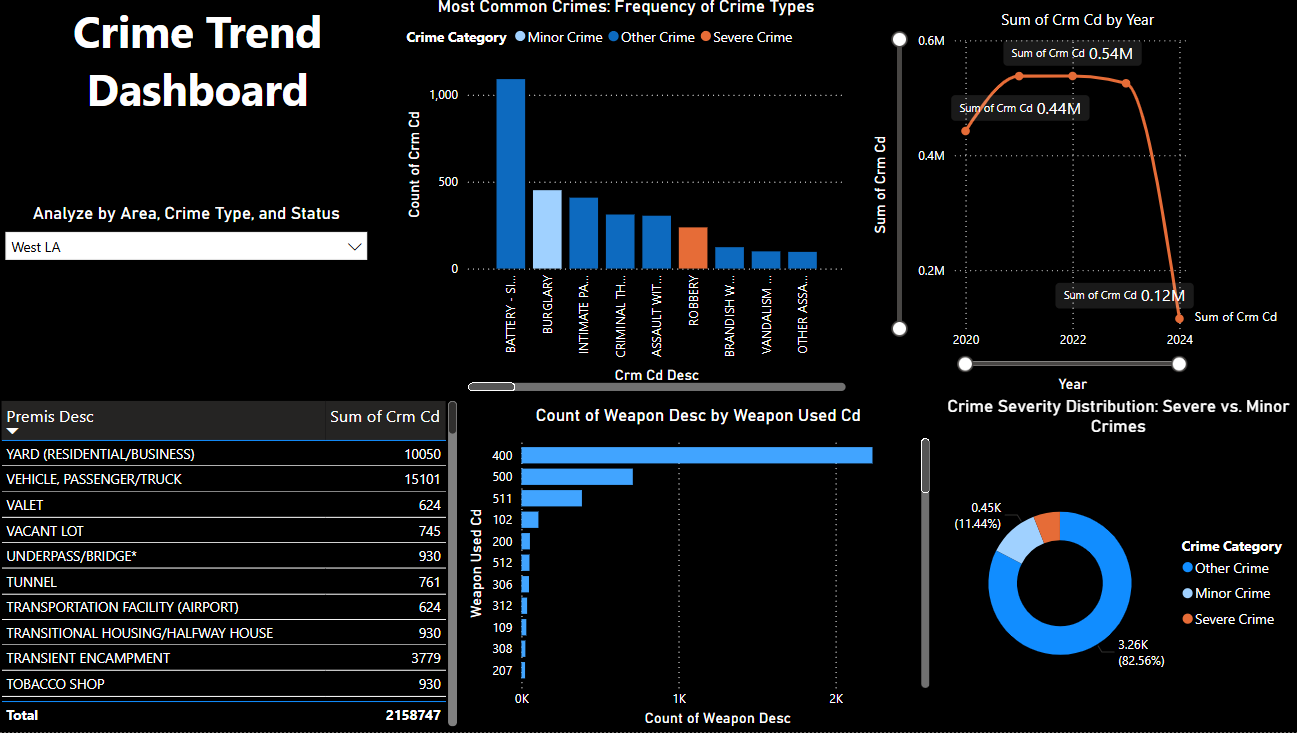

Layout of this report page (visuals, bound fields, positions):
{"tool":"powerbi","page":{"name":"Page 1","canvas":[1280,720],"ordinal":0},"visuals":[{"type":"actionButton","box":[0,0,100,40],"z":0},{"type":"slicer","title":"Analyze by Area, Crime Type, and Status","fields":{"Values":["Crime_Data_from_2020_to_Present.AREA NAME","Crime_Data_from_2020_to_Present.Status","Crime_Data_from_2020_to_Present.Crm Cd Desc","Crime_Data_from_2020_to_Present.DATE OCC"]},"box":[0,135.7,397.1,255.7],"z":1000},{"type":"columnChart","title":"Most Common Crimes: Frequency of Crime Types","fields":{"Category":["Crime_Data_from_2020_to_Present.Crm Cd Desc"],"Y":["CountNonNull(Crime_Data_from_2020_to_Present.Crm Cd)"],"Series":["Crime_Data_from_2020_to_Present.Crime Category"]},"box":[397.1,0,440,391.4],"z":2000},{"type":"barChart","fields":{"Category":["Crime_Data_from_2020_to_Present.Weapon Used Cd"],"Y":["CountNonNull(Crime_Data_from_2020_to_Present.Weapon Desc)"]},"box":[457.1,391.4,461.4,328.6],"z":3000},{"type":"tableEx","fields":{"Values":["Crime_Data_from_2020_to_Present.Premis Desc","Sum(Crime_Data_from_2020_to_Present.Crm Cd)"]},"box":[0,391.4,457.1,328.6],"z":4000},{"type":"textbox","box":[0,0,396.2,135.7],"z":5000},{"type":"lineChart","fields":{"Category":["Crime_Data_from_2020_to_Present.DATE OCC.Variation.Date Hierarchy.Year","Crime_Data_from_2020_to_Present.DATE OCC.Variation.Date Hierarchy.Month"],"Y":["Sum(Crime_Data_from_2020_to_Present.Crm Cd)"]},"box":[837.1,0,442.9,391.4],"z":6000},{"type":"donutChart","title":"Crime Severity Distribution: Severe vs. Minor Crimes","fields":{"Category":["Crime_Data_from_2020_to_Present.Crime Category"],"Y":["CountNonNull(Crime_Data_from_2020_to_Present.Crm Cd Desc)"]},"box":[918.6,391.4,361.4,328.6],"z":6001}]}

Visuals, with their boxes in screenshot pixels (x1, y1, x2, y2), scaled from the page's 1280x720 canvas onto the 1297x733 screenshot:
actionButton: [0, 0, 101, 41]
"Analyze by Area, Crime Type, and Status" slicer: [0, 138, 402, 398]
"Most Common Crimes: Frequency of Crime Types" columnChart: [402, 0, 848, 398]
barChart - Crime_Data_from_2020_to_Present.Weapon Used Cd x CountNonNull(Crime_Data_from_2020_to_Present.Weapon Desc): [463, 398, 931, 732]
tableEx - Crime_Data_from_2020_to_Present.Premis Desc x Sum(Crime_Data_from_2020_to_Present.Crm Cd): [0, 398, 463, 732]
textbox: [0, 0, 401, 138]
lineChart - Crime_Data_from_2020_to_Present.DATE OCC.Variation.Date Hierarchy.Year x Crime_Data_from_2020_to_Present.DATE OCC.Variation.Date Hierarchy.Month: [848, 0, 1296, 398]
"Crime Severity Distribution: Severe vs. Minor Crimes" donutChart: [931, 398, 1296, 732]
